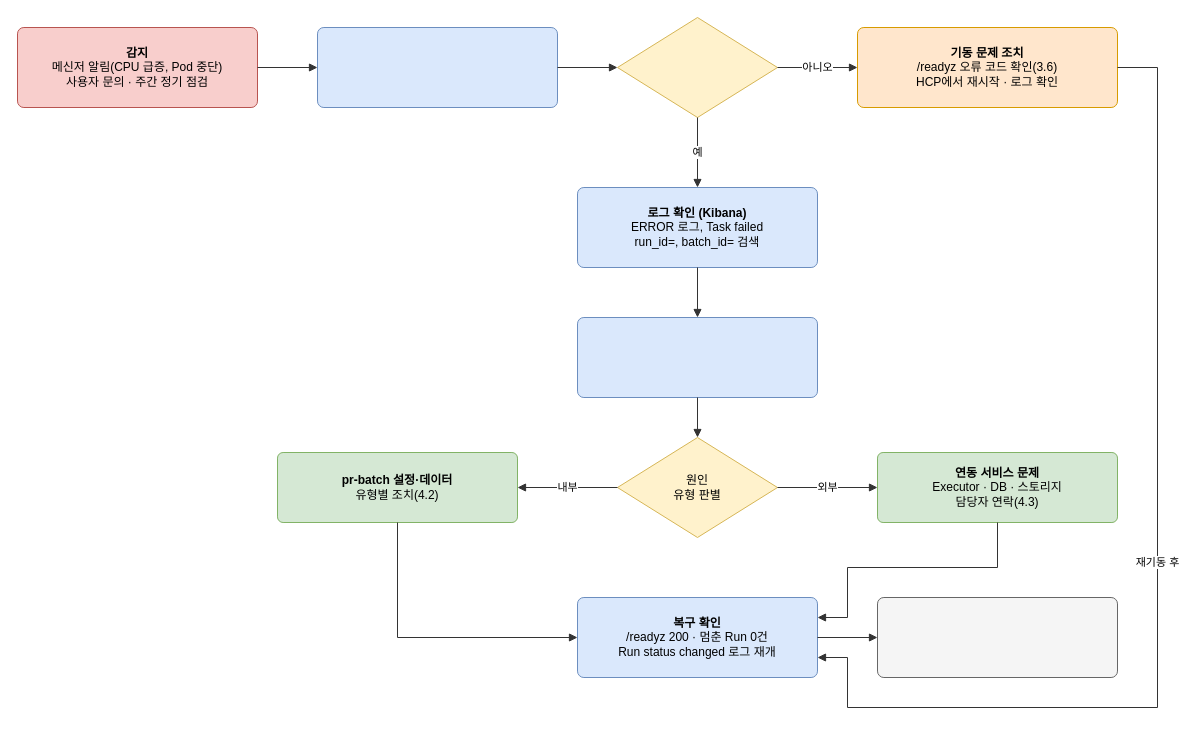
The diagram is 1197 pixels wide and 733 high, and some of its shapes have lost their labels. The centre of each missing label's shape, as x and y in pixels:
"1차 확인 HCP에서 Pod 상태 GET /healthz · GET /readyz" belongs at pixel 437 67.
"DB 진단 진단 SQL(3.6) 멈춘 Run · Task 적체 · 예약 막힘" belongs at pixel 697 357.
"Pod·헬스 정상?" belongs at pixel 697 67.
"기록·전파 원인 · 조치 · 영향 범위 기록 재발 방지 항목 등록" belongs at pixel 997 637.
